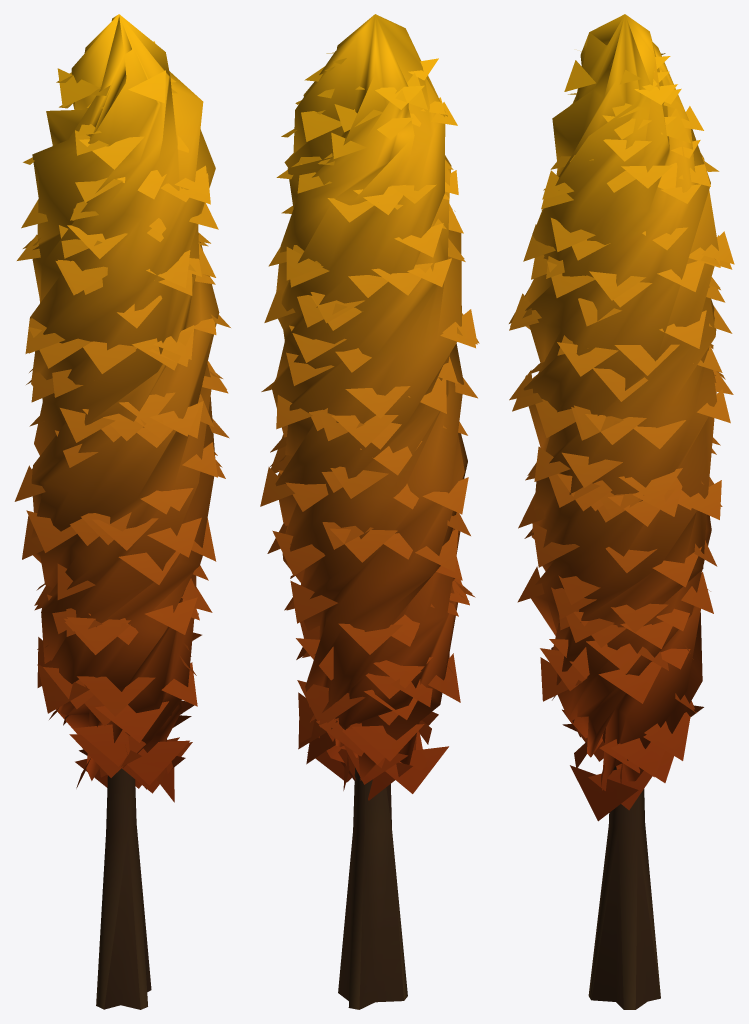
The model's file is Tree_5H.fbx.
3 renders of one model, left to right at view 1: azimuth 30°, elevation 25°; view 2: azimuth 150°, elevation 25°; view 3: azimuth 270°, elevation 25°, orthographic.
Parts seen in each view (by area): view 1: Tree_5H; view 2: Tree_5H; view 3: Tree_5H.
Part boxes in pixels (box(x1,y1,x2,y2)): Tree_5H: box(14, 14, 230, 1009); Tree_5H: box(260, 14, 479, 1009); Tree_5H: box(509, 14, 734, 1009).
Size of the model in its own units: 4.33 by 20.8 by 4.35.
